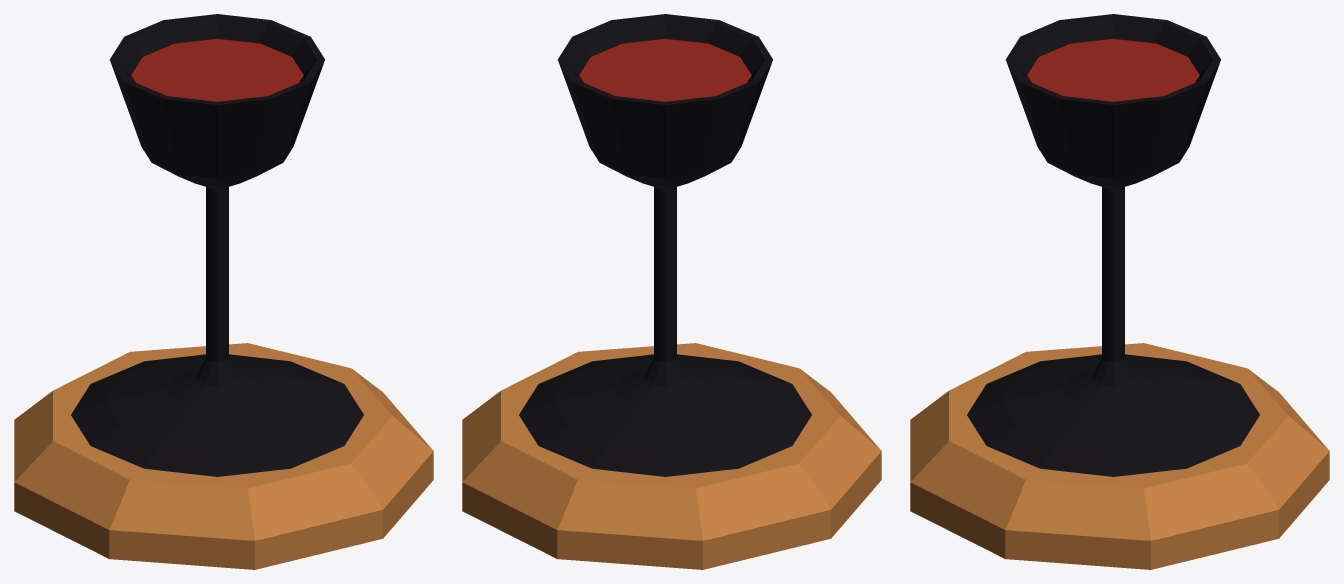
Rendered from Chalice.fbx.
3 renders of one model, left to right at view 1: azimuth 30°, elevation 25°; view 2: azimuth 150°, elevation 25°; view 3: azimuth 270°, elevation 25°, orthographic.
Visible parts, largest first — view 1: Cylinder.005; view 2: Cylinder.005; view 3: Cylinder.005.
Part boxes in pixels (bbox=[...]): Cylinder.005: bbox=[14, 14, 433, 569]; Cylinder.005: bbox=[462, 14, 881, 569]; Cylinder.005: bbox=[910, 14, 1329, 569].
Bounding box in the file's own units: 157 × 171 × 154.
